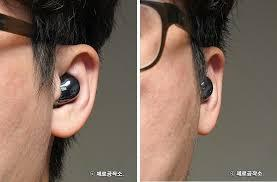earphone: (52, 73, 85, 110), (196, 72, 213, 103)
